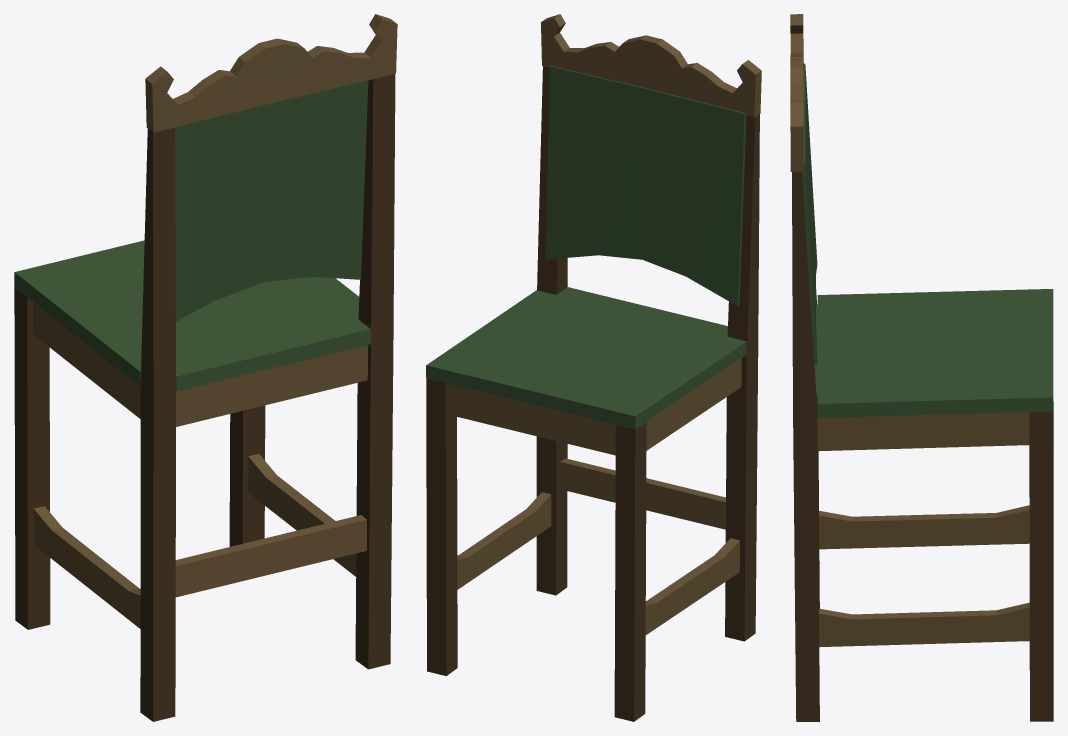
File: chair_4.FBX
3 views of the same model, side by side, from view 1: azimuth 30°, elevation 25°; view 2: azimuth 150°, elevation 25°; view 3: azimuth 270°, elevation 25° (orthographic). The views are drawn at different scales.
Parts seen in each view (by area): view 1: chair_4; view 2: chair_4; view 3: chair_4.
Boxes of the visible parts, x1,y1,x2,y2 form: chair_4: [14, 14, 397, 721]; chair_4: [426, 14, 761, 721]; chair_4: [790, 14, 1053, 721].
Size of the model in its own units: 17.06 by 43.2 by 17.04.
